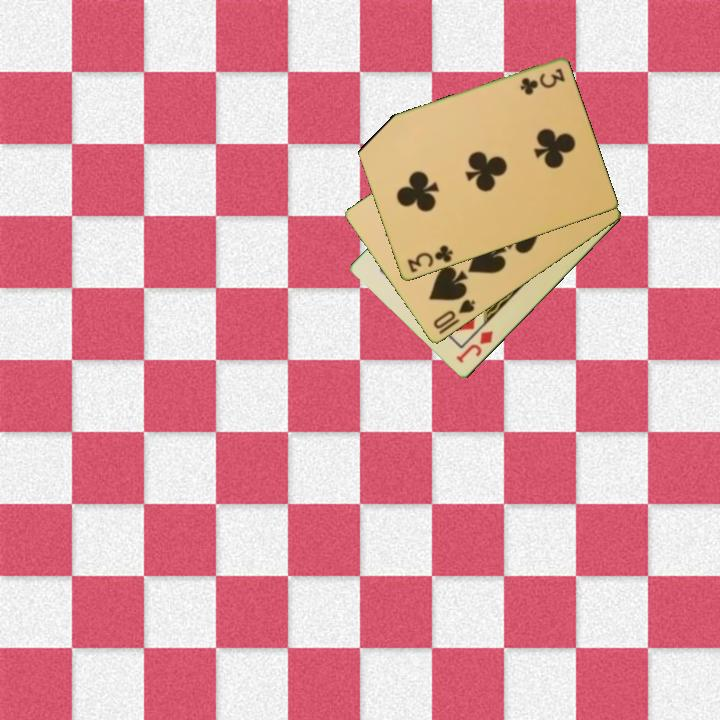10s: (429, 296, 478, 332)
3c: (403, 241, 456, 276), (516, 65, 567, 97)
Jd: (452, 327, 496, 367)
